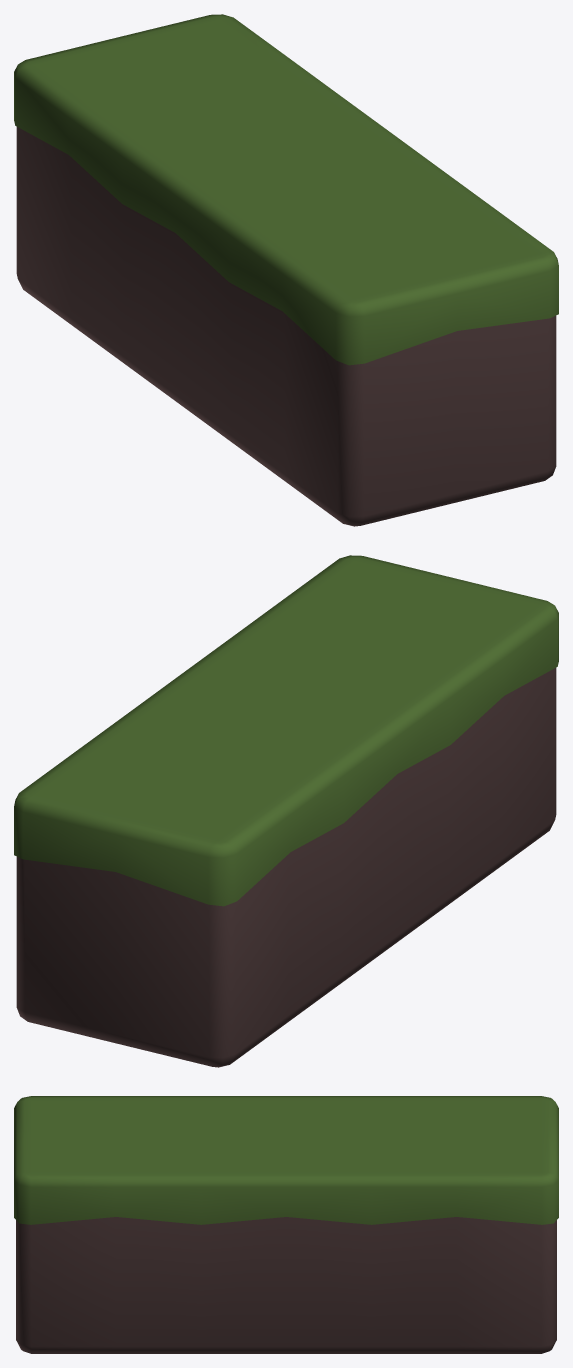
The model's file is Tile3x1.fbx.
The picture shows the model from 3 angles, top to bottom: view 1: azimuth 30°, elevation 25°; view 2: azimuth 150°, elevation 25°; view 3: azimuth 270°, elevation 25°; orthographic projection. The views are drawn at different scales.
Parts seen in each view (by area): view 1: Tile-3x1; view 2: Tile-3x1; view 3: Tile-3x1.
Boxes of the visible parts, <box> form: Tile-3x1: <box>14,14,558,526</box>; Tile-3x1: <box>14,555,558,1067</box>; Tile-3x1: <box>14,1096,558,1353</box>.
Bounding box in the file's own units: 2.04 × 2 × 5.44.
